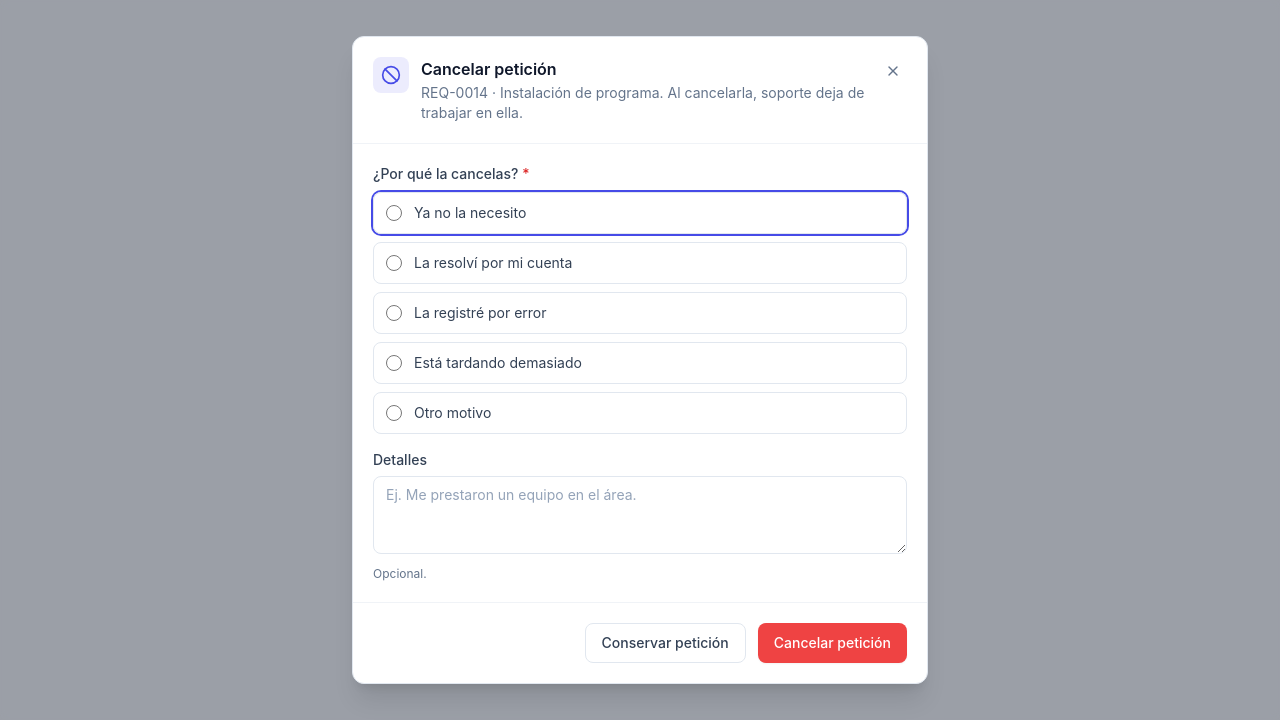
Scenario: CancelReasonDialog › pide elegir un motivo
The image size is (1280, 720).
Click the button "Cancelar petición" at (832, 643), box [758,623,907,663]
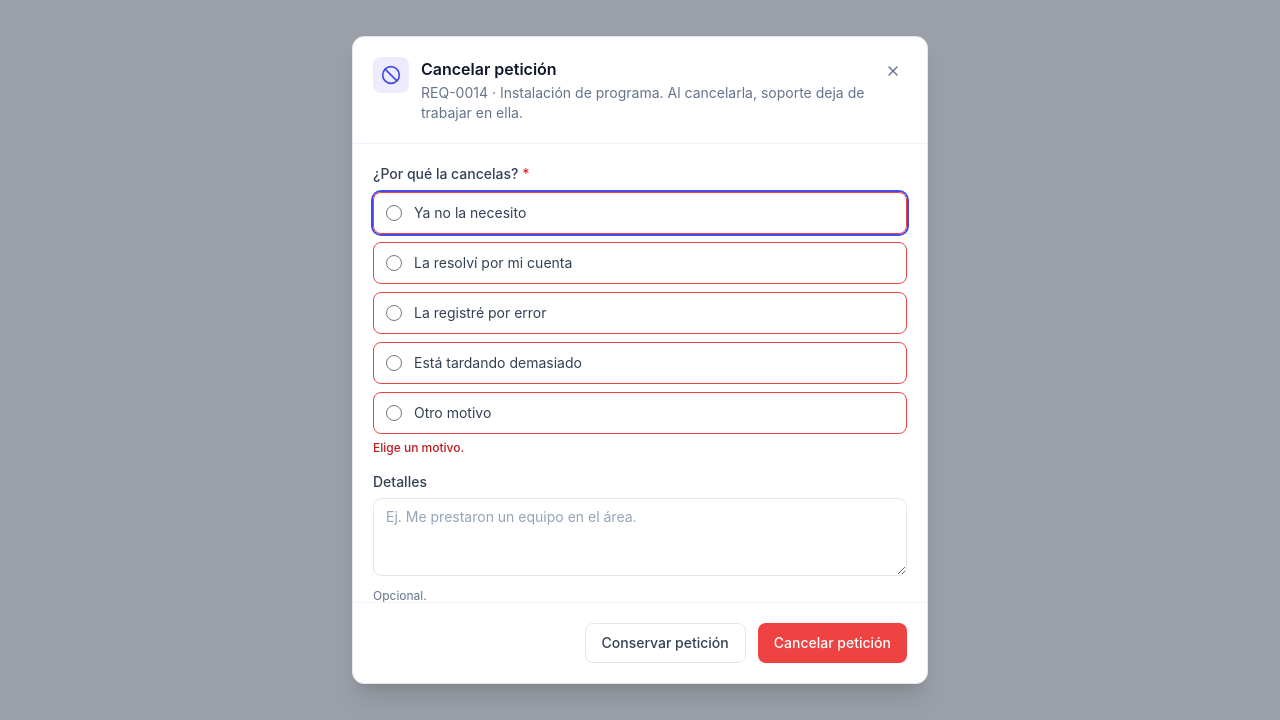
expect the message reads "Elige un motivo.": met, box [373,440,464,455]
